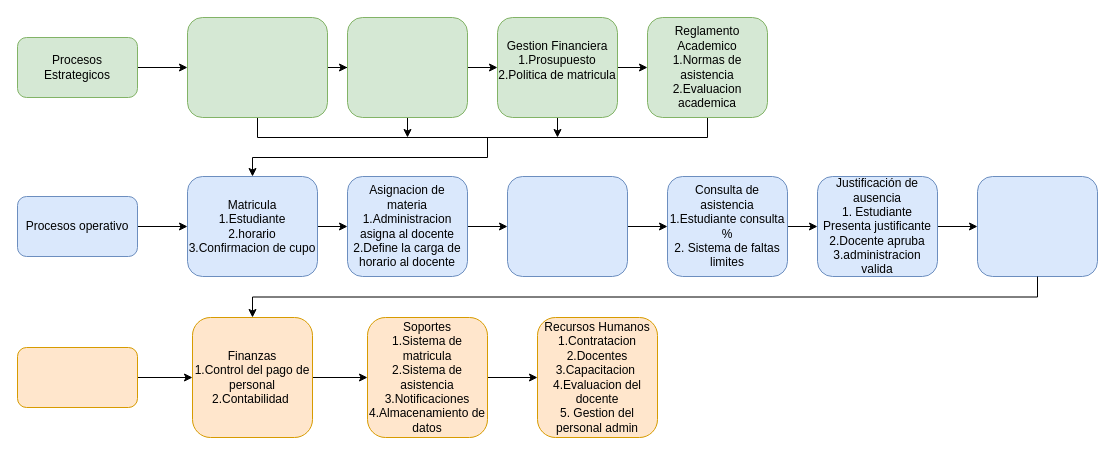
This 1117x455 diagram has some shape labels left out. Here are the shapes that lost their labels. From the top down, the centre of each, then its label:
At pixel 257 67: "Planificacion semestral 1. Materia 2. Horarios 3. Cupos".
At pixel 407 67: "Gestion de perfil 1.Estudiante 2.Docente 3. Admin".
At pixel 567 226: "Asistencia 1.Docente toma lista 2.Registro diario".
At pixel 1037 226: "Reportes finales 1. notas finales 2. Resumen de asistencia 3.Aprobado/Reprobado".
At pixel 77 377: "Procesos de apoyo".
